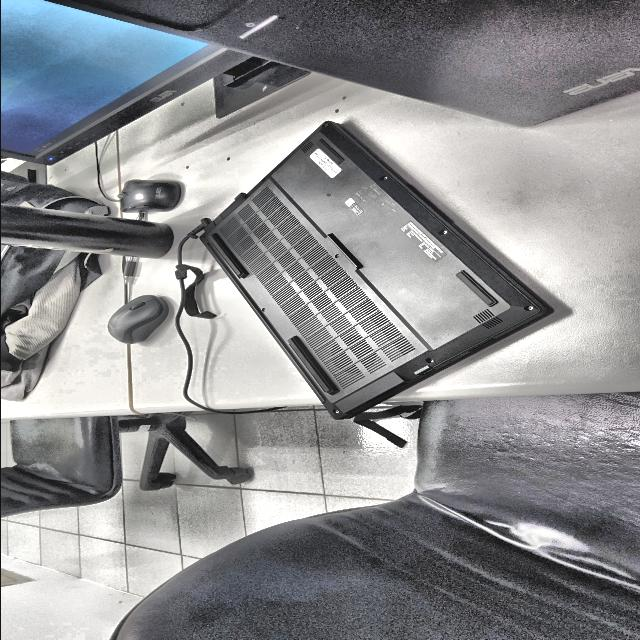laptop: (200, 123, 551, 419)
